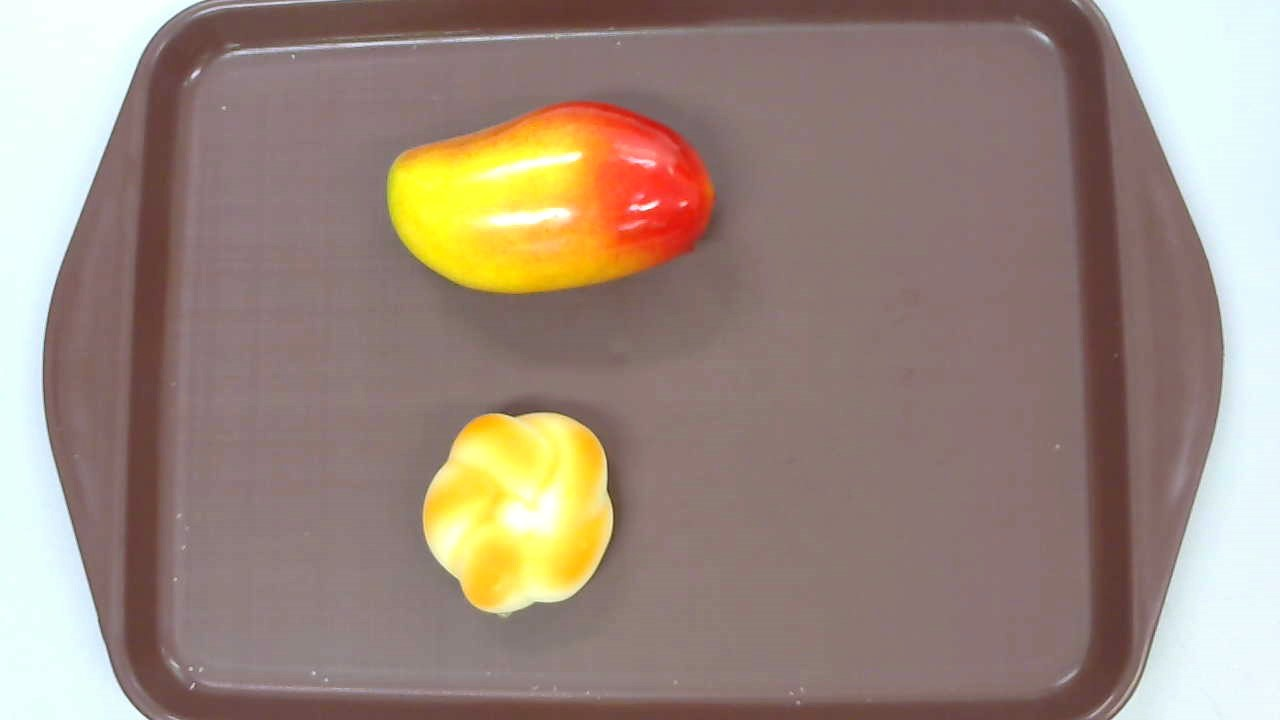red mango: (385, 102, 716, 295)
twist bread: (422, 411, 614, 618)
